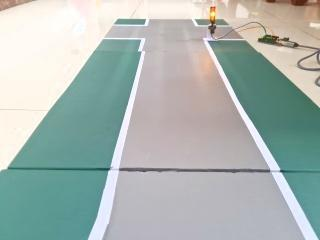yellow: (206, 2, 223, 25)
